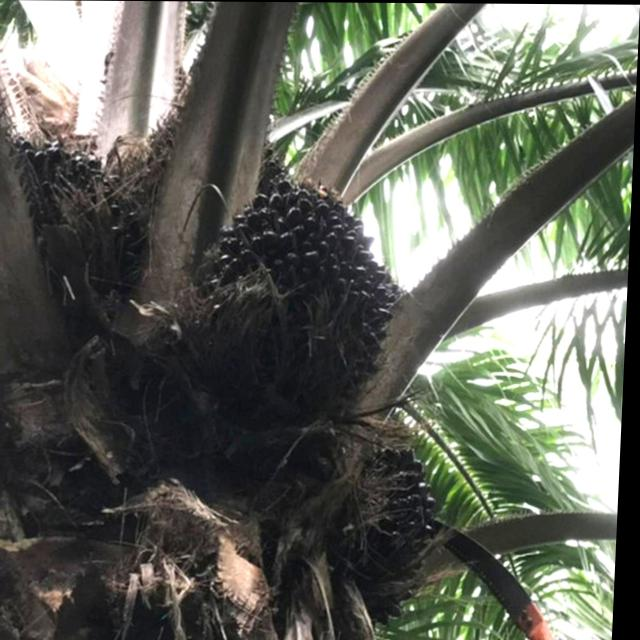ripe: (179, 159, 422, 426)
